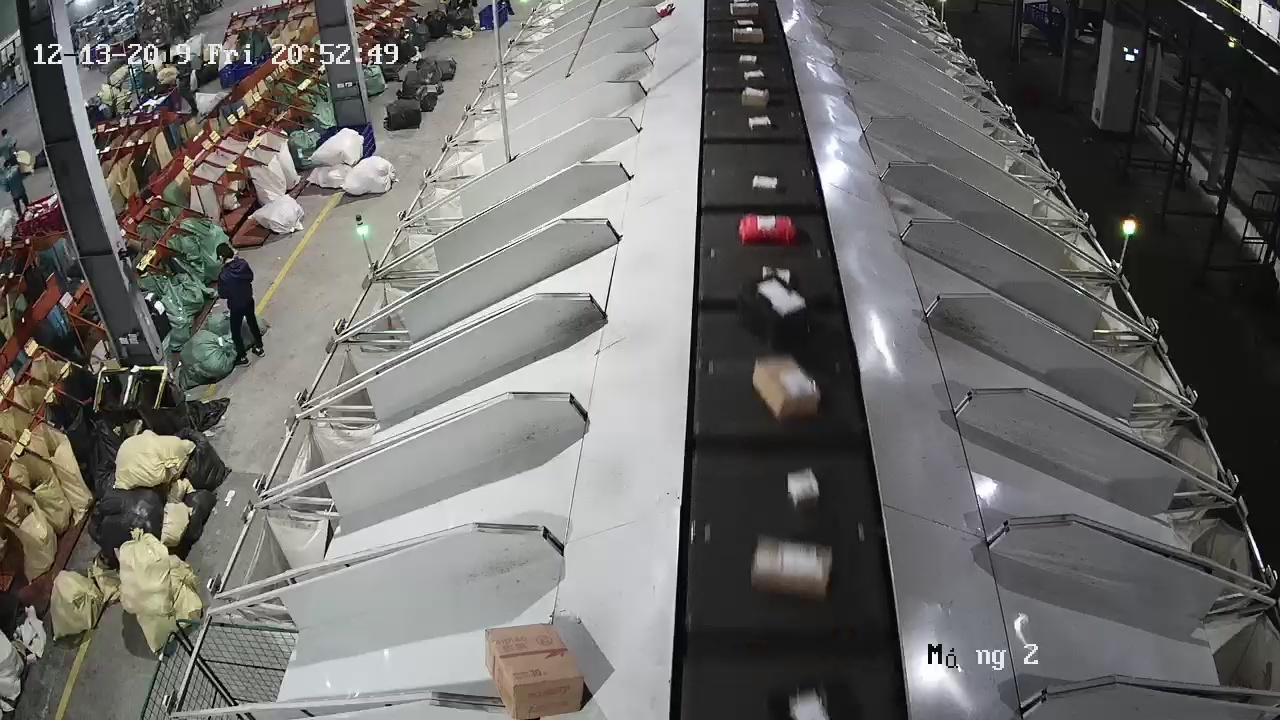parcel: (888, 194, 913, 212)
